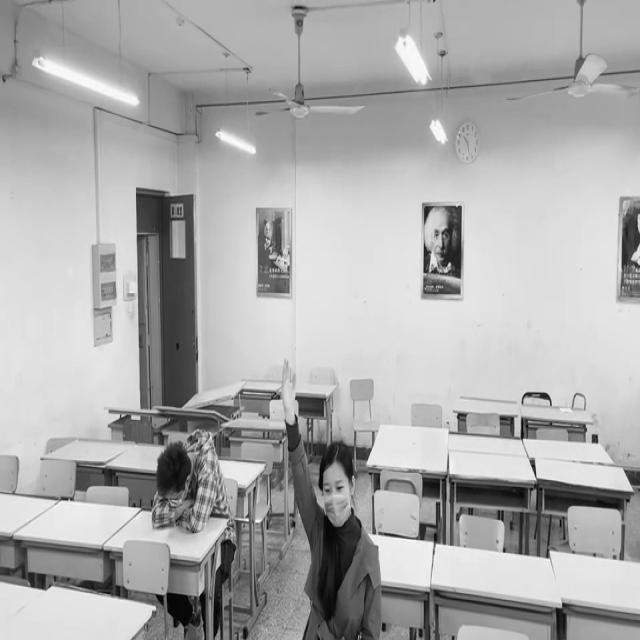sleep: (151, 428, 228, 531)
study: (283, 358, 382, 639)
